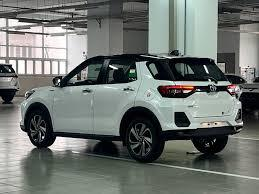toyota: (207, 83, 219, 92)
